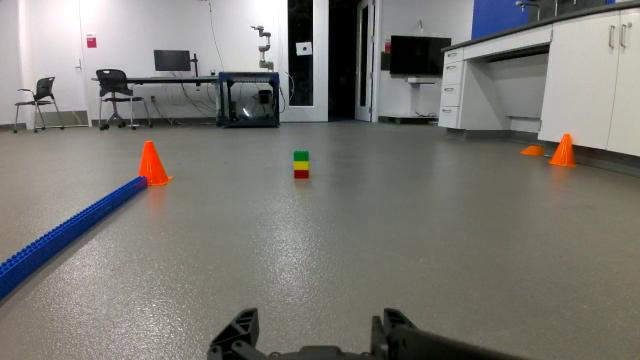lego: (290, 146, 315, 185)
